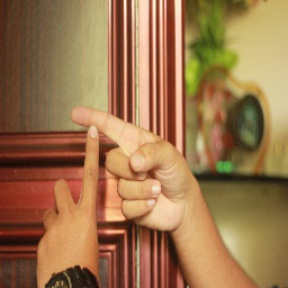T: (35, 99, 172, 241)
